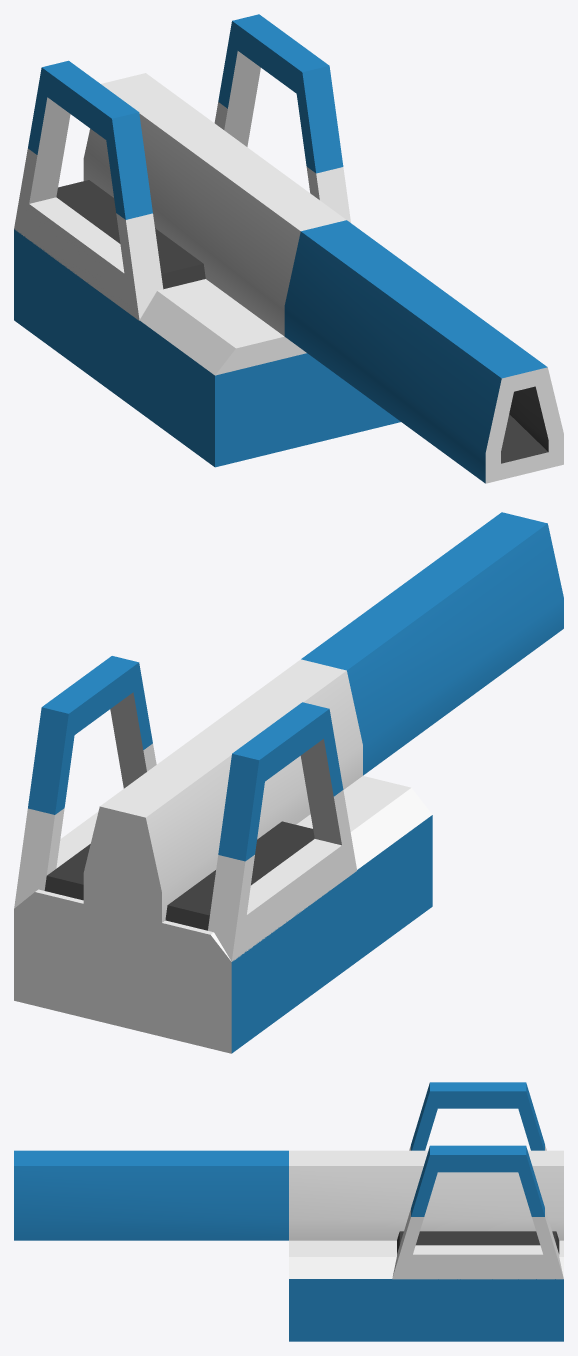
The model's file is Weapon.fbx.
The picture shows the model from 3 angles, top to bottom: view 1: azimuth 30°, elevation 25°; view 2: azimuth 150°, elevation 25°; view 3: azimuth 270°, elevation 25°; orthographic projection. The views are drawn at different scales.
Parts seen in each view (by area): view 1: engine_barrelTop_1, plane_tail_2, ship_cargoOpen_0; view 2: engine_barrelTop_1, plane_tail_2, ship_cargoOpen_0; view 3: engine_barrelTop_1, plane_tail_2, ship_cargoOpen_0.
Boxes of the visible parts, bbox=[...] form: engine_barrelTop_1: bbox=[83, 73, 563, 483]; plane_tail_2: bbox=[14, 229, 400, 467]; ship_cargoOpen_0: bbox=[14, 14, 350, 320]; engine_barrelTop_1: bbox=[83, 512, 563, 922]; plane_tail_2: bbox=[14, 776, 432, 1053]; ship_cargoOpen_0: bbox=[14, 656, 356, 961]; engine_barrelTop_1: bbox=[14, 1150, 563, 1240]; plane_tail_2: bbox=[289, 1240, 563, 1341]; ship_cargoOpen_0: bbox=[392, 1082, 563, 1279].
Size of the model in its own units: 10 by 12 by 32.
